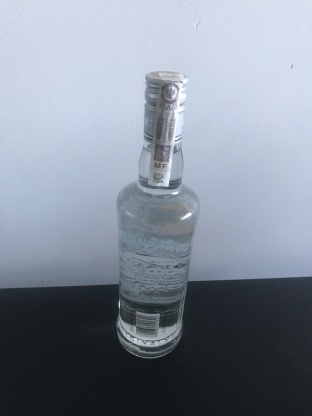nakretka: (141, 66, 190, 146)
